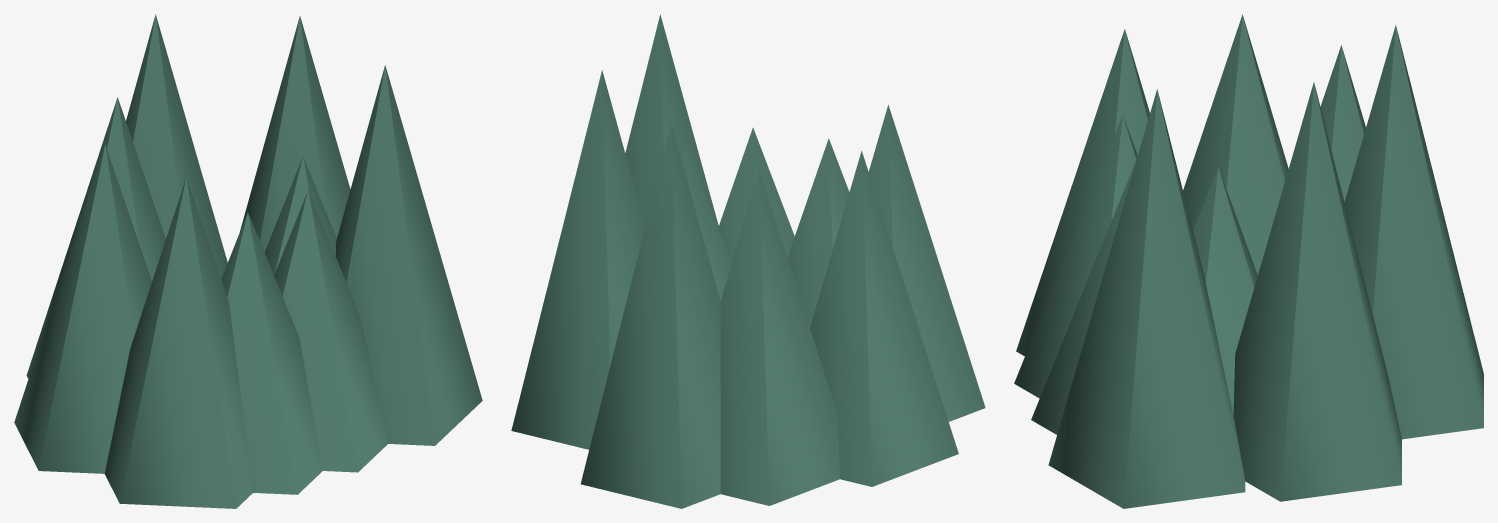
Rendered from sunfall-rift-moba-concealment-brush-fa4acab0__21998.glb.
3 views of the same model, side by side, from view 1: azimuth 30°, elevation 25°; view 2: azimuth 150°, elevation 25°; view 3: azimuth 270°, elevation 25° (orthographic). The views are drawn at different scales.
Visible parts, largest first — view 1: concealment-brush; view 2: concealment-brush; view 3: concealment-brush.
Part boxes in pixels (x1,y1,x2,y2): concealment-brush: (14,14,482,508); concealment-brush: (511,14,985,508); concealment-brush: (1014,14,1483,508).
Bounding box in the file's own units: 1.55 × 1.26 × 1.42.
